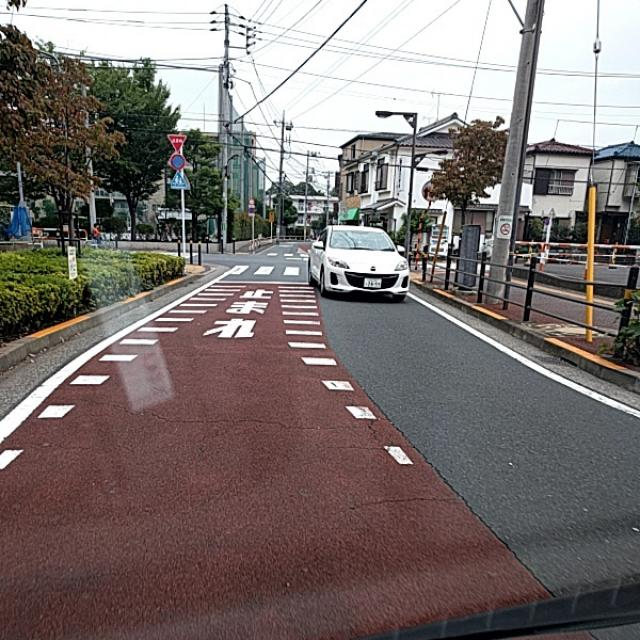pothole: (273, 414, 461, 500)
